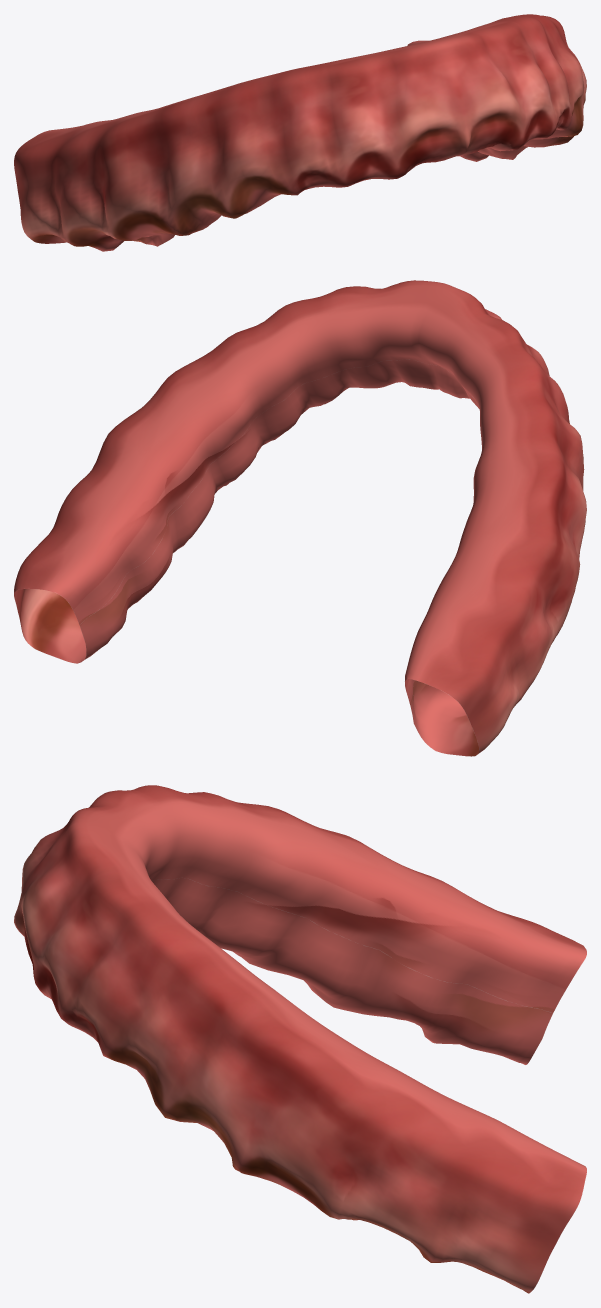
File: GumTop.glb
3 views of the same model, one above another, from view 1: azimuth 30°, elevation 25°; view 2: azimuth 150°, elevation 25°; view 3: azimuth 270°, elevation 25° (orthographic). The views are drawn at different scales.
Parts seen in each view (by area): view 1: GumTop; view 2: GumTop; view 3: GumTop.
Part boxes in pixels (bbox=[...]): GumTop: bbox=[14, 14, 586, 251]; GumTop: bbox=[14, 280, 586, 756]; GumTop: bbox=[14, 785, 586, 1293].
Bounding box in the file's own units: 2.16 × 1.25 × 1.86.
1 material, 1 textured.
